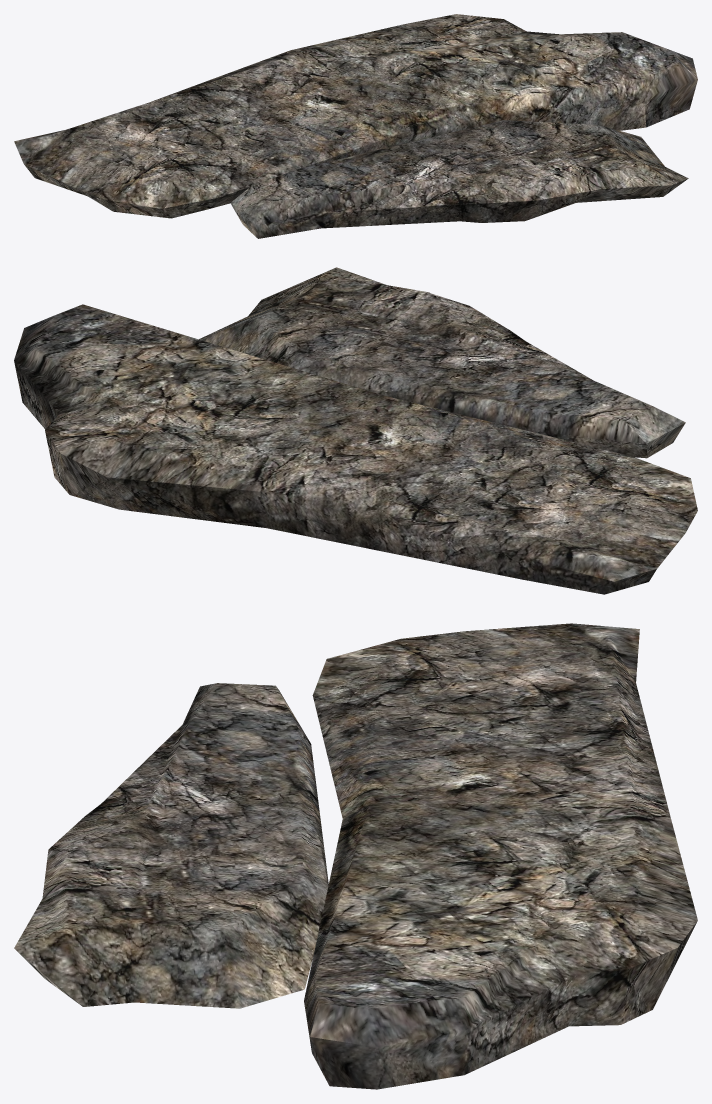
The model's file is pir_m_prp_cav_rock_bridge.fbx.
3 views of the same model, one above another, from view 1: azimuth 30°, elevation 25°; view 2: azimuth 150°, elevation 25°; view 3: azimuth 270°, elevation 25° (orthographic). The views are drawn at different scales.
Parts seen in each view (by area): view 1: rock_01, rock_02; view 2: rock_01, rock_02; view 3: rock_01, rock_02.
Part boxes in pixels (x1,y1,x2,y2): rock_01: (14, 14, 697, 218); rock_02: (230, 120, 688, 238); rock_01: (14, 304, 697, 594); rock_02: (199, 267, 685, 458); rock_01: (304, 623, 697, 1089); rock_02: (14, 683, 328, 1008).
Size of the model in its own units: 3038 by 276 by 2021.
1 material, 1 textured.
